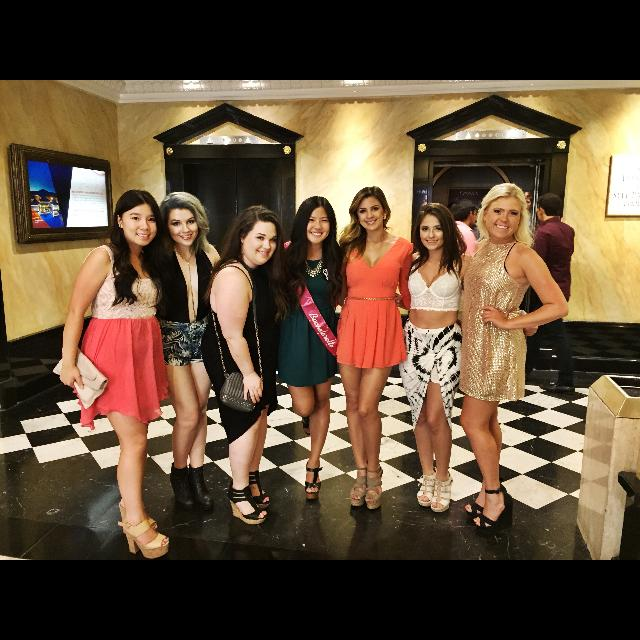head: (482, 182, 528, 240), (116, 190, 160, 248), (238, 207, 280, 265), (418, 203, 454, 250), (164, 198, 198, 246), (300, 196, 332, 244), (355, 186, 389, 230), (536, 193, 562, 224)
person: (340, 202, 540, 514), (264, 194, 406, 508), (449, 182, 573, 532), (327, 184, 431, 514), (127, 190, 236, 504), (203, 200, 293, 530), (524, 190, 580, 394)
